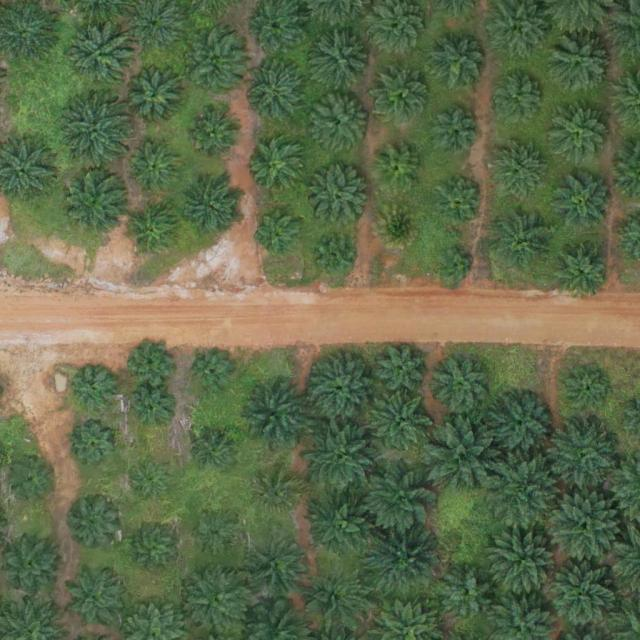Healthy: (236, 378, 314, 457), (303, 416, 381, 495), (362, 460, 440, 539), (423, 418, 501, 497), (487, 455, 565, 534), (546, 558, 624, 637), (490, 529, 561, 600), (62, 97, 133, 167), (308, 492, 378, 563), (370, 525, 440, 596), (550, 490, 620, 561), (183, 564, 253, 634), (300, 565, 370, 635), (547, 418, 617, 488), (549, 104, 612, 167), (65, 567, 128, 630), (550, 32, 612, 95), (492, 209, 555, 271), (73, 29, 135, 92), (311, 92, 373, 155), (183, 176, 245, 239), (66, 168, 128, 231), (309, 356, 371, 419), (370, 391, 433, 453), (489, 395, 552, 457), (551, 240, 613, 302), (185, 39, 247, 101), (309, 166, 371, 228), (2, 537, 64, 599), (127, 202, 182, 258), (557, 175, 612, 230), (492, 139, 547, 194), (376, 69, 431, 124), (127, 69, 182, 124), (248, 66, 303, 121), (315, 32, 370, 87), (252, 141, 307, 196), (191, 108, 246, 163), (129, 139, 184, 194), (69, 496, 124, 551), (374, 342, 429, 397), (442, 567, 497, 622), (491, 69, 545, 124), (432, 38, 486, 93), (251, 538, 305, 593), (433, 358, 487, 413), (436, 177, 483, 225)
Small: (128, 523, 183, 578), (376, 147, 423, 195), (432, 109, 479, 157), (565, 368, 612, 416), (312, 233, 359, 281), (12, 459, 59, 507), (255, 471, 302, 518), (256, 208, 303, 255), (72, 366, 119, 413), (72, 424, 119, 471), (125, 340, 172, 387), (127, 389, 174, 436), (189, 349, 236, 396), (191, 431, 238, 478), (194, 512, 241, 559), (437, 248, 476, 287), (131, 463, 170, 502)
Yellow: (376, 203, 423, 250)
